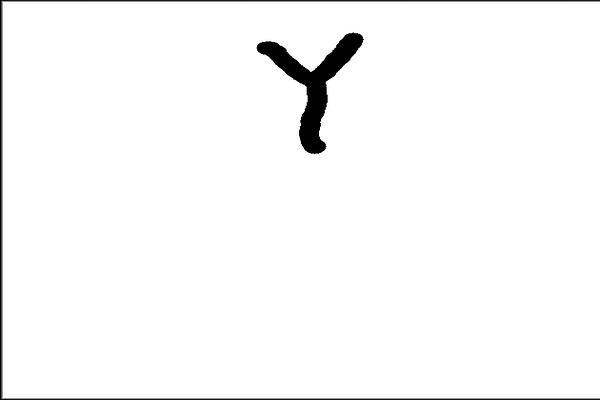Y: (240, 29, 369, 163)
